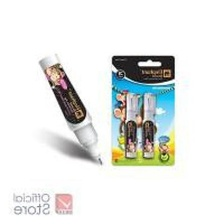book: (109, 52, 177, 169)
correction_fluid: (36, 49, 108, 167), (122, 90, 141, 159), (141, 91, 158, 159)
